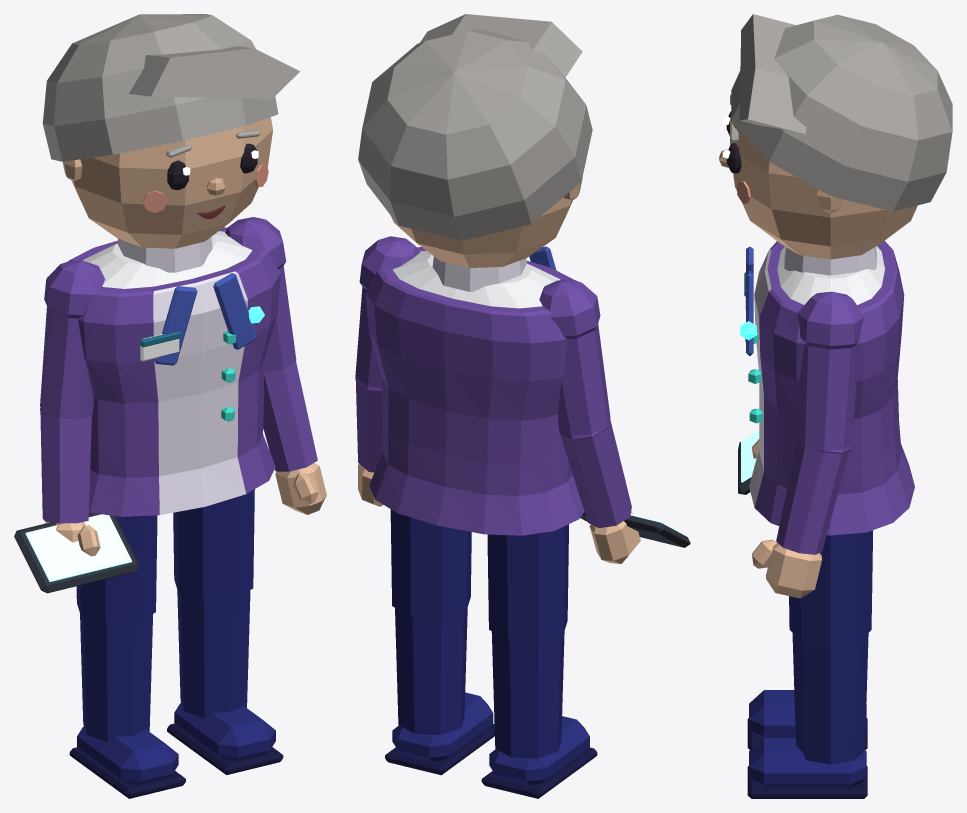
The model's file is man_pri.glb.
3 views of the same model, side by side, from view 1: azimuth 30°, elevation 25°; view 2: azimuth 150°, elevation 25°; view 3: azimuth 270°, elevation 25° (orthographic).
Visible parts, largest first — view 1: mantel, haare, bein_l, kopf, bein_r, arm_r, arm_l, gegenstand_terminal, schuh_l, schuh_r, torso, revers (+5 smaller); view 2: mantel, haare, bein_r, bein_l, arm_r, arm_l, kopf, schuh_r, schuh_l, torso, kragen, hand_r (+1 smaller); view 3: haare, mantel, bein_l, arm_l, kopf, schuh_l, torso, hand_l, schuh_r, kragen, gesicht, gegenstand_terminal (+1 smaller).
Boxes of the visible parts, box(x1,y1,x2,y2) form: mantel: box(68, 227, 280, 516); haare: box(42, 14, 299, 161); bein_l: box(173, 489, 254, 717); kopf: box(62, 117, 272, 248); bein_r: box(76, 512, 157, 741); arm_r: box(40, 261, 105, 523); arm_l: box(225, 217, 317, 471); gegenstand_terminal: box(14, 512, 139, 593); schuh_l: box(167, 702, 283, 774); schuh_r: box(69, 726, 185, 798); torso: box(83, 231, 252, 288); revers: box(154, 273, 256, 365); mantel: box(365, 247, 584, 535); haare: box(358, 14, 592, 240); bein_r: box(487, 524, 568, 758); bein_l: box(390, 509, 471, 734); arm_r: box(539, 279, 631, 527); arm_l: box(355, 236, 420, 472); kopf: box(390, 177, 582, 267); schuh_r: box(481, 716, 597, 798); schuh_l: box(385, 692, 494, 775); torso: box(392, 250, 560, 308); kragen: box(432, 256, 527, 291); hand_r: box(589, 511, 640, 563); haare: box(731, 14, 952, 211); mantel: box(749, 240, 914, 535); bein_l: box(789, 530, 872, 764); arm_l: box(776, 291, 864, 554); kopf: box(730, 114, 917, 259); schuh_l: box(747, 737, 867, 798); torso: box(777, 246, 884, 304); hand_l: box(752, 539, 821, 598); schuh_r: box(747, 690, 867, 749); kragen: box(784, 246, 876, 275); gesicht: box(719, 94, 750, 203); gegenstand_terminal: box(738, 430, 759, 494).
Bounding box in the file's own units: 0.012 × 0.0276 × 0.00798.
